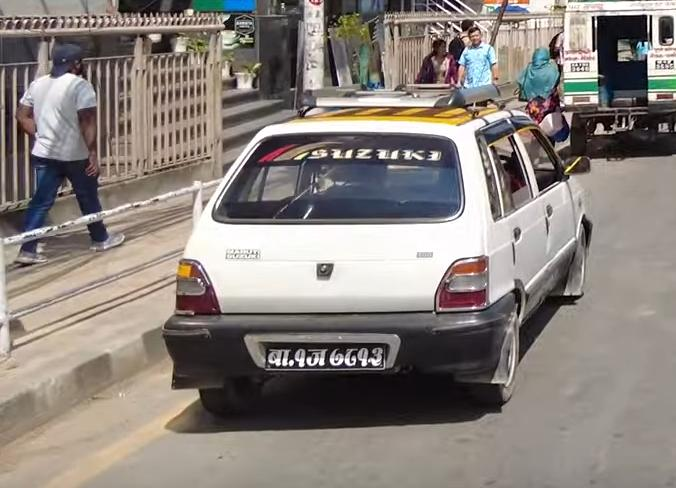taxi: (156, 79, 599, 416)
tempo: (559, 0, 676, 161)
